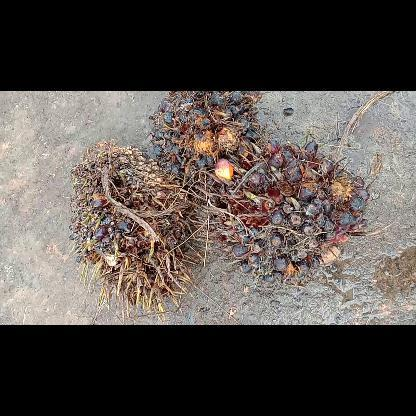TBS abnormal: (191, 140, 370, 286), (70, 140, 200, 324), (150, 91, 260, 179)
